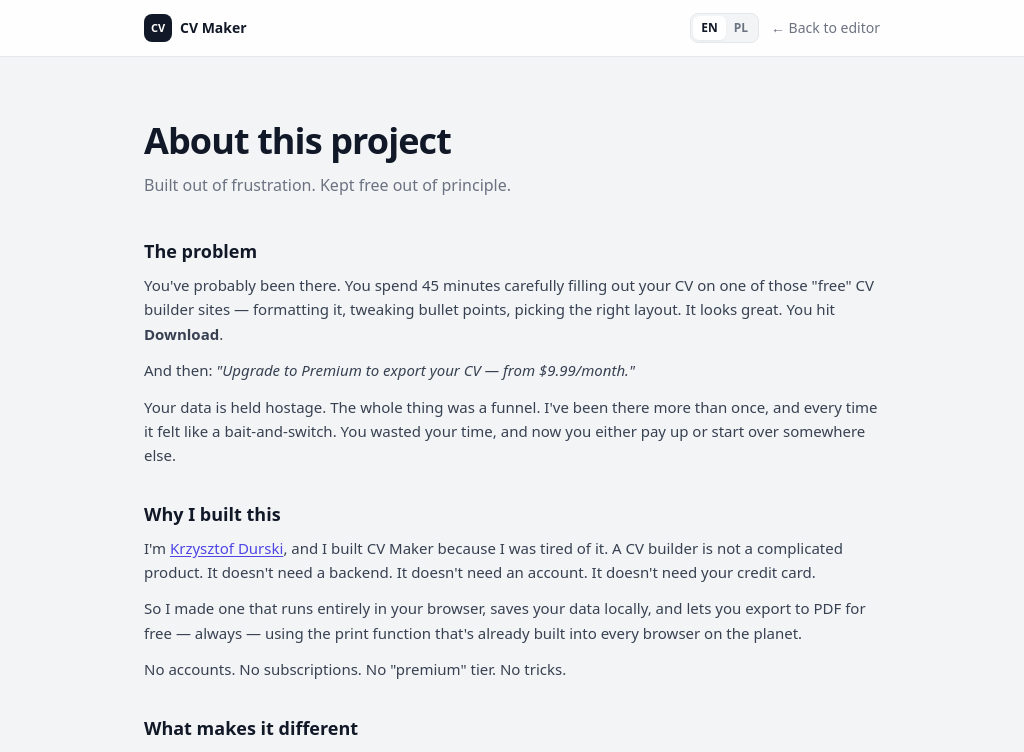
it: information pages › the page changes language in place when the switch is used
Expected: the heading "About this project" is shown, [144, 116, 451, 165]
Click the button "PL".
click(741, 28)  # box [726, 16, 756, 40]
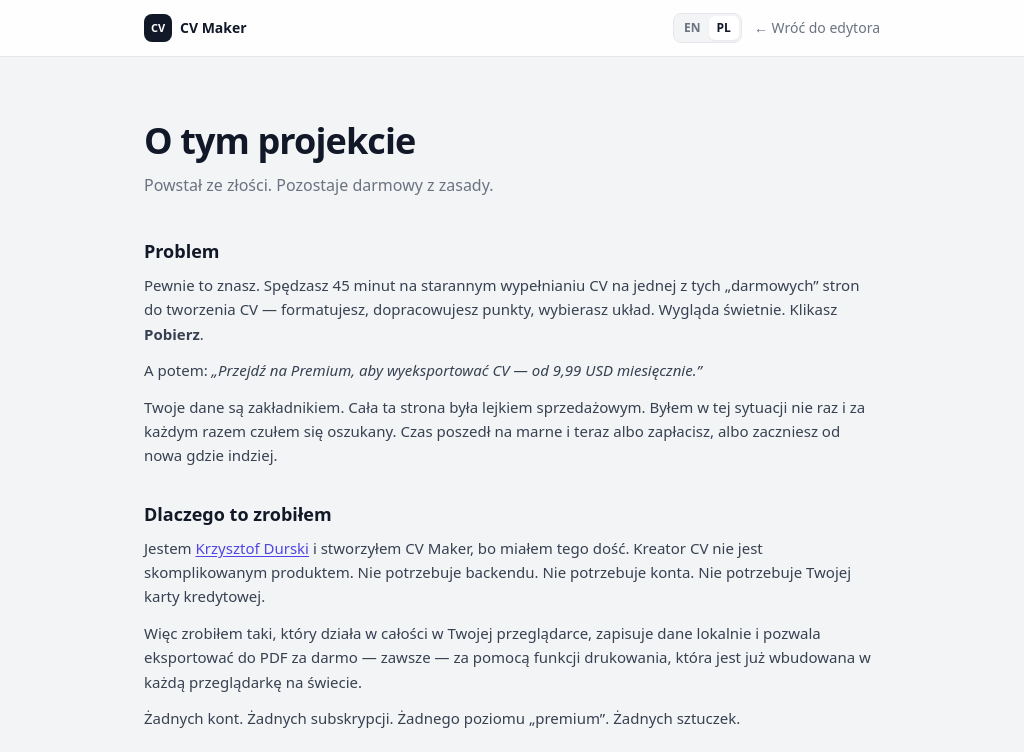
Expected: the heading "O tym projekcie" is shown, [144, 116, 415, 165]
Expected: the link "← Wróć do edytora" is shown, [754, 18, 880, 38]
Click the button "EN".
click(692, 28)  # box [676, 16, 709, 40]
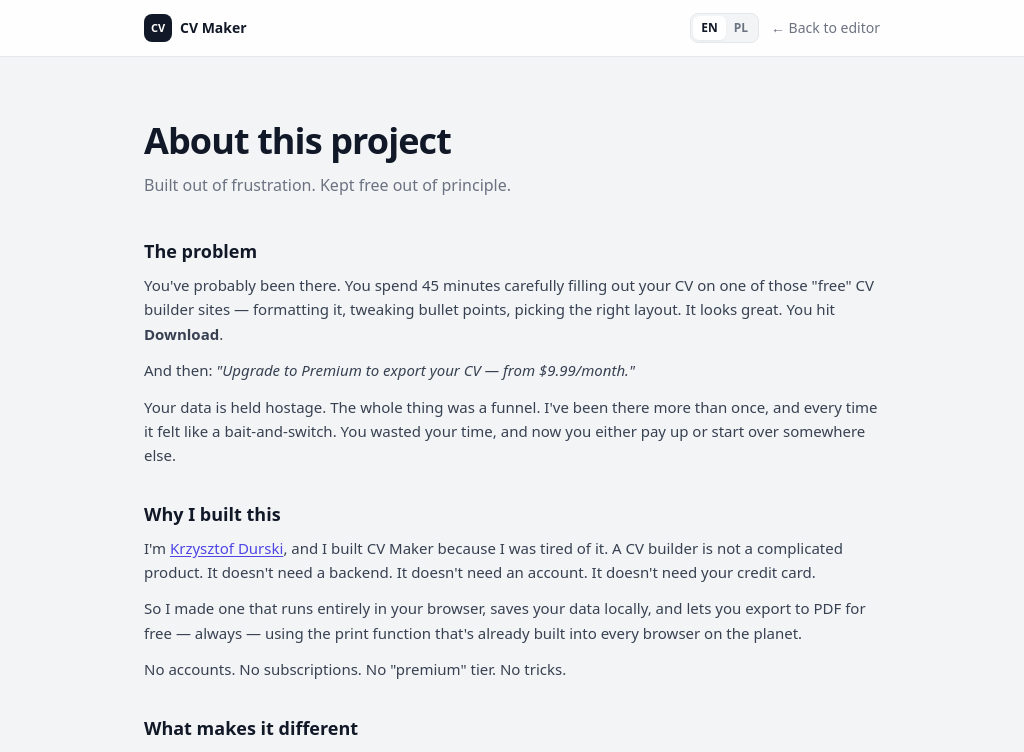
Expected: the heading "About this project" is shown, [144, 116, 451, 165]
